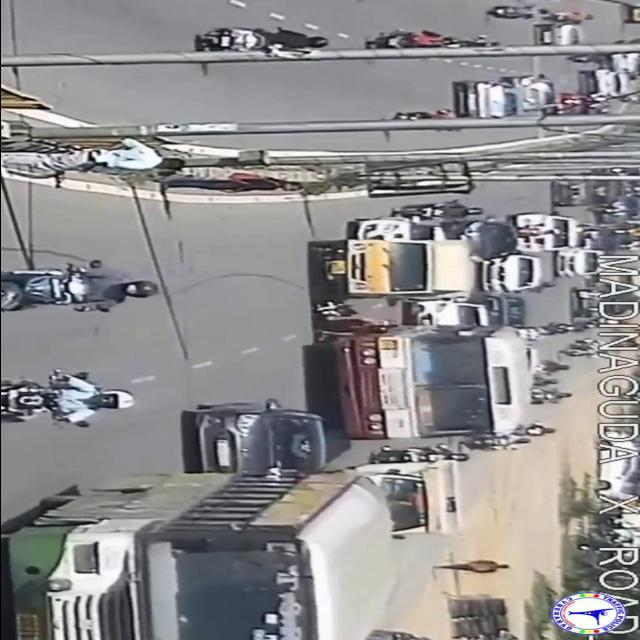accident: (302, 236, 550, 439)
non_accident: (0, 400, 472, 640), (472, 168, 640, 294), (440, 58, 640, 118)
